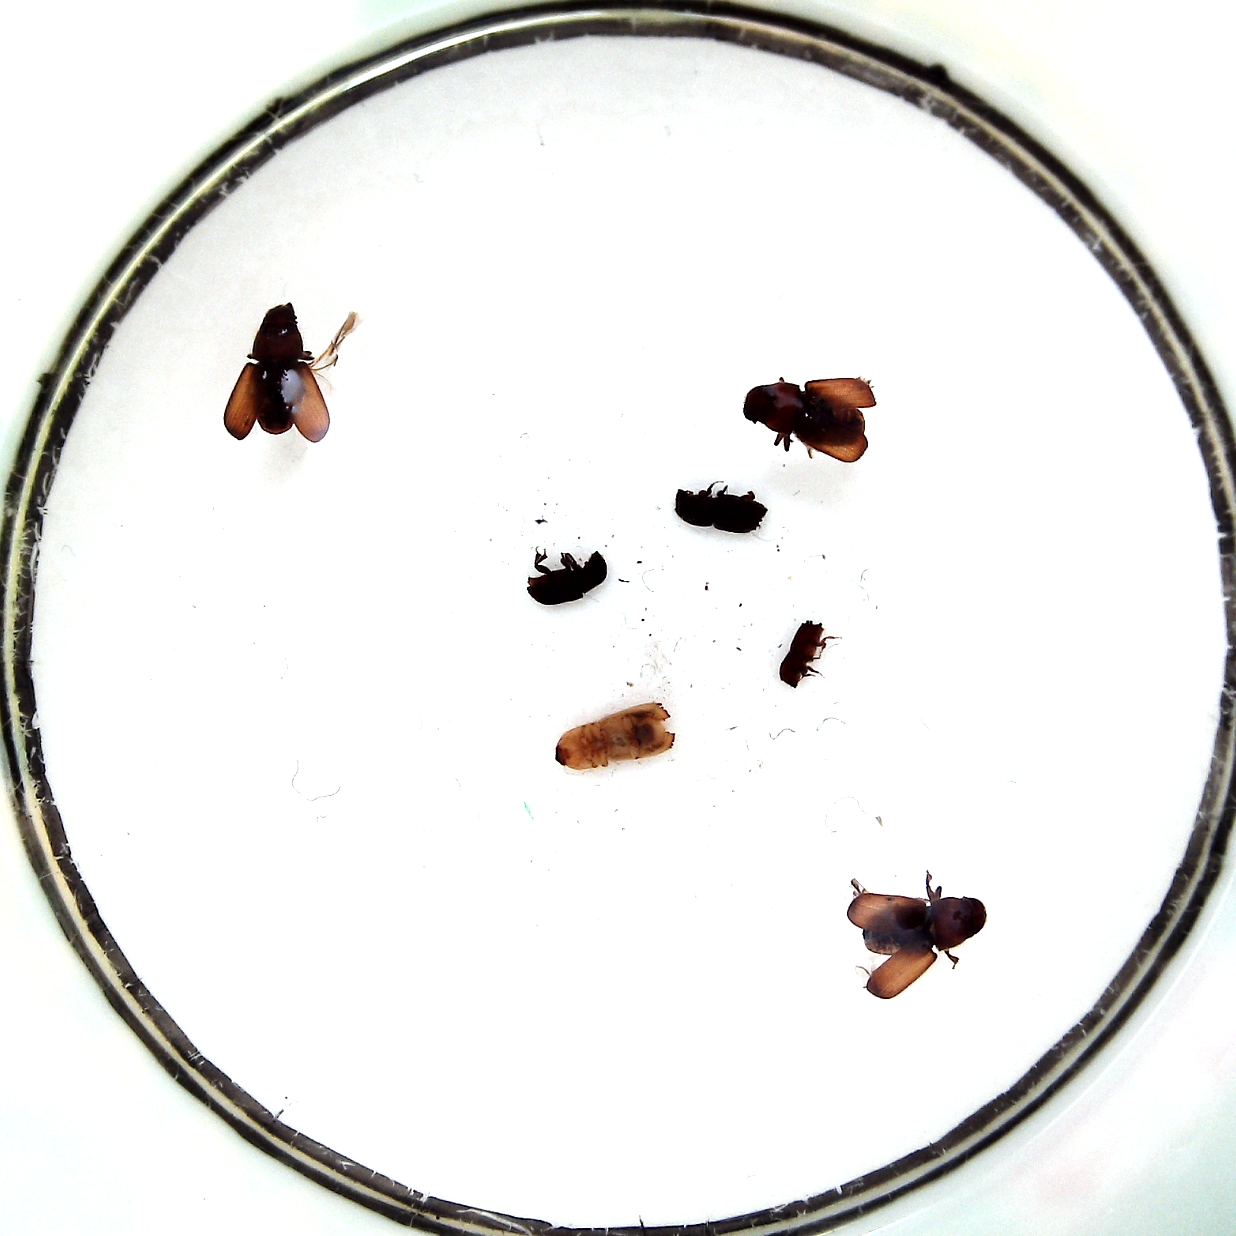Boerner: (557, 698, 675, 772)
Leconte: (846, 879, 986, 999), (218, 300, 332, 446), (740, 372, 875, 466)
Linnaeus: (673, 482, 770, 539)
acuminatus: (778, 615, 834, 694)
armandi: (526, 546, 609, 608)
